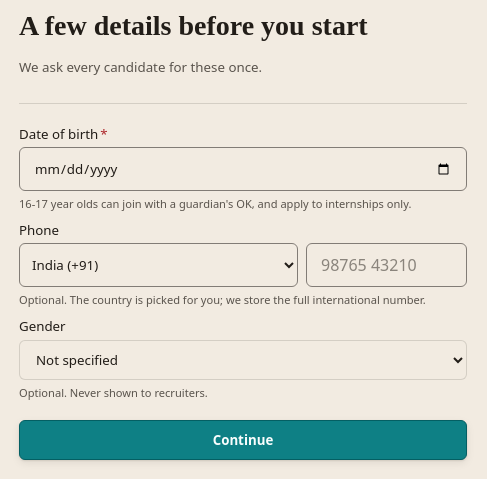
Scenario: the guardian stage › renders after a minor's identity block saves, and not before
Expected: the field labelled "guardian's email address" is not shown
Type "2010-01-01" into the date field labelled "Date of birth*" at (243, 169), box [19,147,467,191]
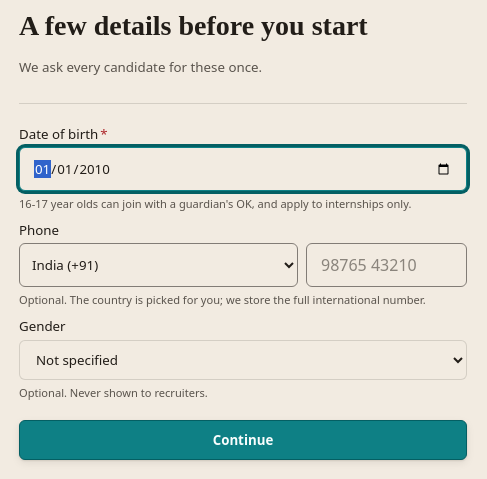
Click the button "Continue" at (243, 440), box [19,420,467,460]
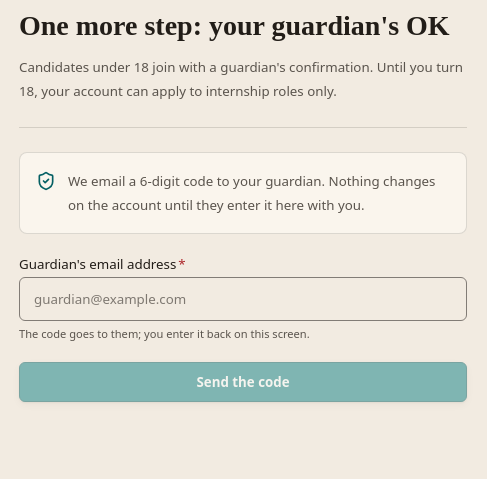
Expected: the field labelled "Guardian's email address*" is shown, [19,277,467,321]
